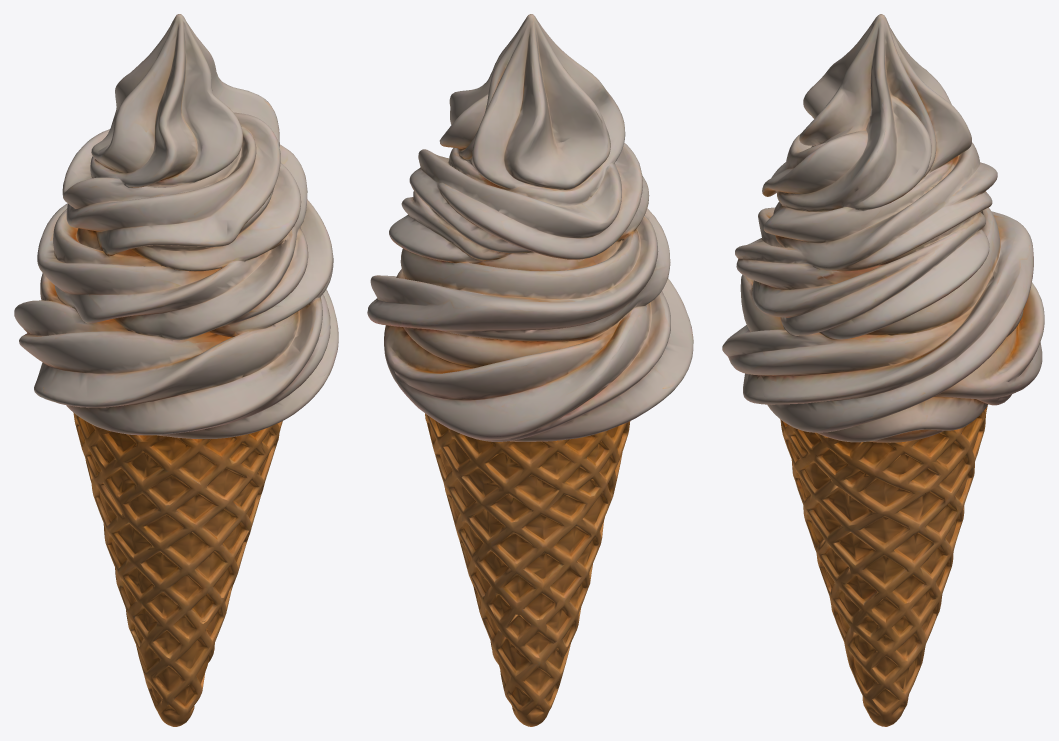
Rendered from ice-cream.glb.
3 views of the same model, side by side, from view 1: azimuth 30°, elevation 25°; view 2: azimuth 150°, elevation 25°; view 3: azimuth 270°, elevation 25° (orthographic).
Visible parts, largest first — view 1: texture_pbr_v128; view 2: texture_pbr_v128; view 3: texture_pbr_v128.
Part boxes in pixels (x1=…): texture_pbr_v128: x1=14, y1=14, x2=338, y2=726; texture_pbr_v128: x1=367, y1=14, x2=693, y2=726; texture_pbr_v128: x1=722, y1=14, x2=1044, y2=726.
Size of the model in its own units: 0.2497 by 0.6 by 0.2465.
1 material, 1 textured.
